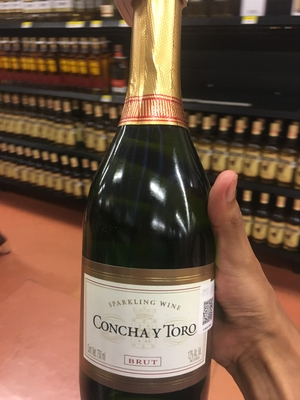brut: (76, 11, 227, 400)
